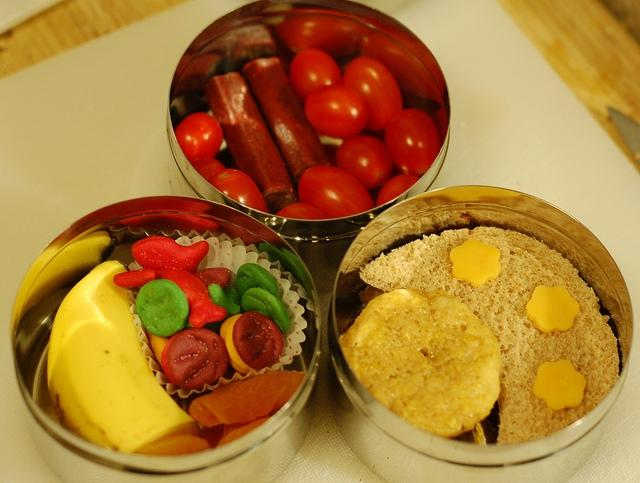banana: (48, 260, 210, 456)
tomato: (343, 56, 401, 130), (298, 166, 374, 220), (386, 108, 440, 175), (304, 86, 368, 140), (336, 135, 394, 190), (290, 48, 342, 106), (208, 168, 270, 213), (174, 112, 223, 162), (376, 174, 420, 207), (276, 202, 330, 220), (190, 156, 226, 181)
